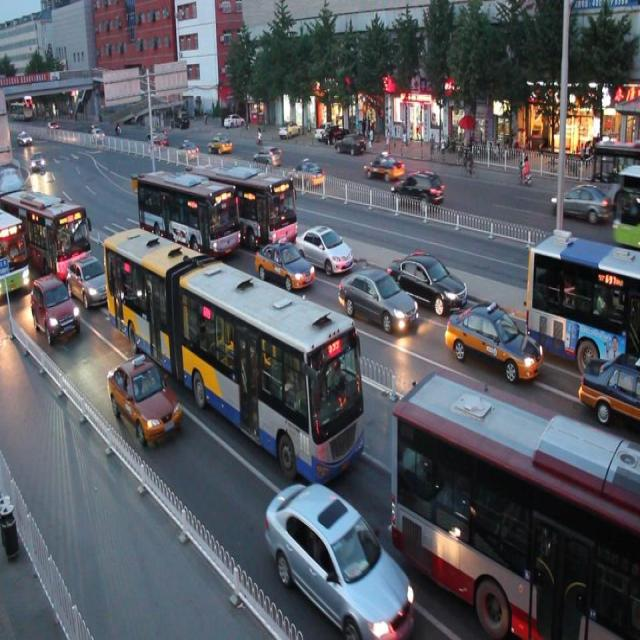car: (265, 480, 413, 640), (446, 294, 544, 382), (108, 354, 182, 448), (337, 258, 416, 331), (390, 243, 468, 309), (577, 348, 640, 418), (253, 230, 314, 289), (31, 274, 80, 344), (294, 214, 352, 273), (66, 255, 115, 309)
van: (102, 218, 366, 482), (388, 371, 640, 640), (524, 225, 640, 360), (136, 160, 240, 262), (191, 153, 298, 248), (1, 182, 90, 272), (1, 208, 30, 306)
